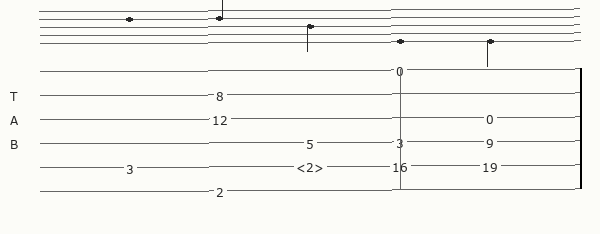0: (396, 64, 408, 77), (486, 112, 498, 125)
12: (212, 112, 232, 125)
16: (392, 160, 412, 173)
19: (482, 160, 502, 173)
2: (216, 184, 228, 197)
3: (126, 160, 138, 173), (396, 136, 408, 149)
5: (306, 136, 318, 149)
8: (216, 88, 228, 101)
9: (486, 136, 498, 149)
harmonic: (296, 159, 328, 173)
